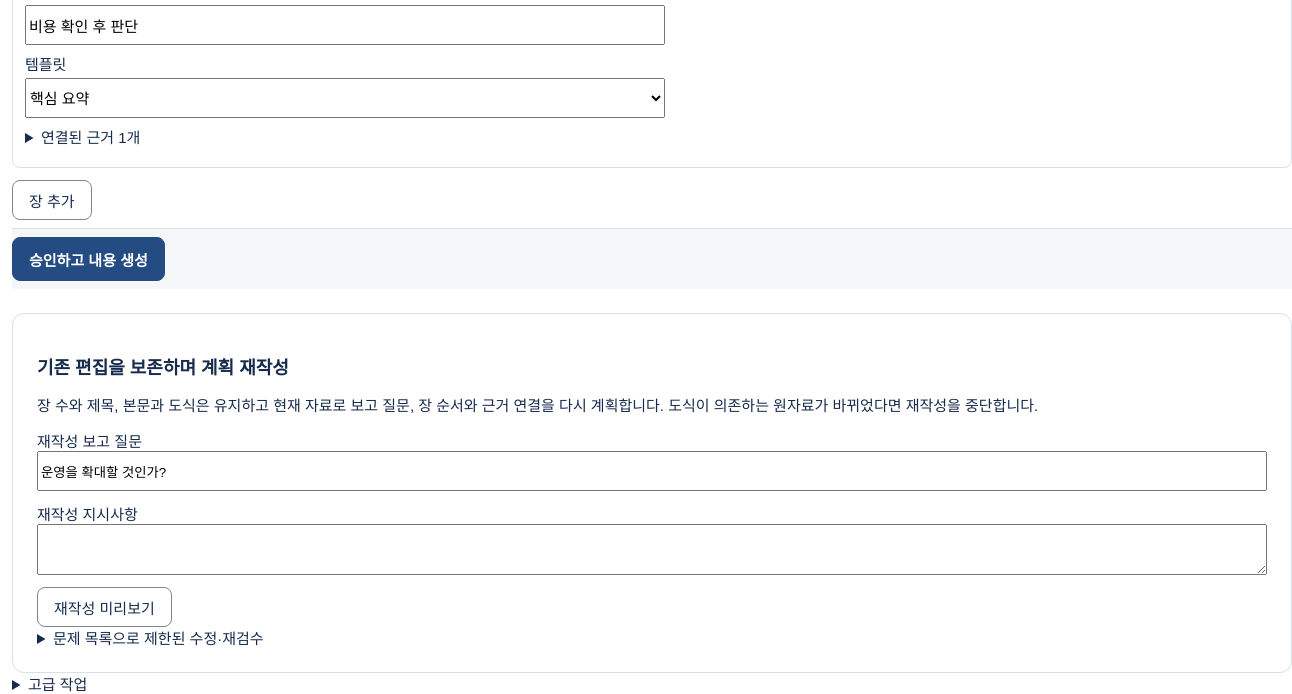
Test: 형식 오류의 원문을 표시하고 적용하지 않는다
(page scrolled)
Click the button "재작성 미리보기".
click(104, 607)  # box [37,587,172,627]
(page scrolled)
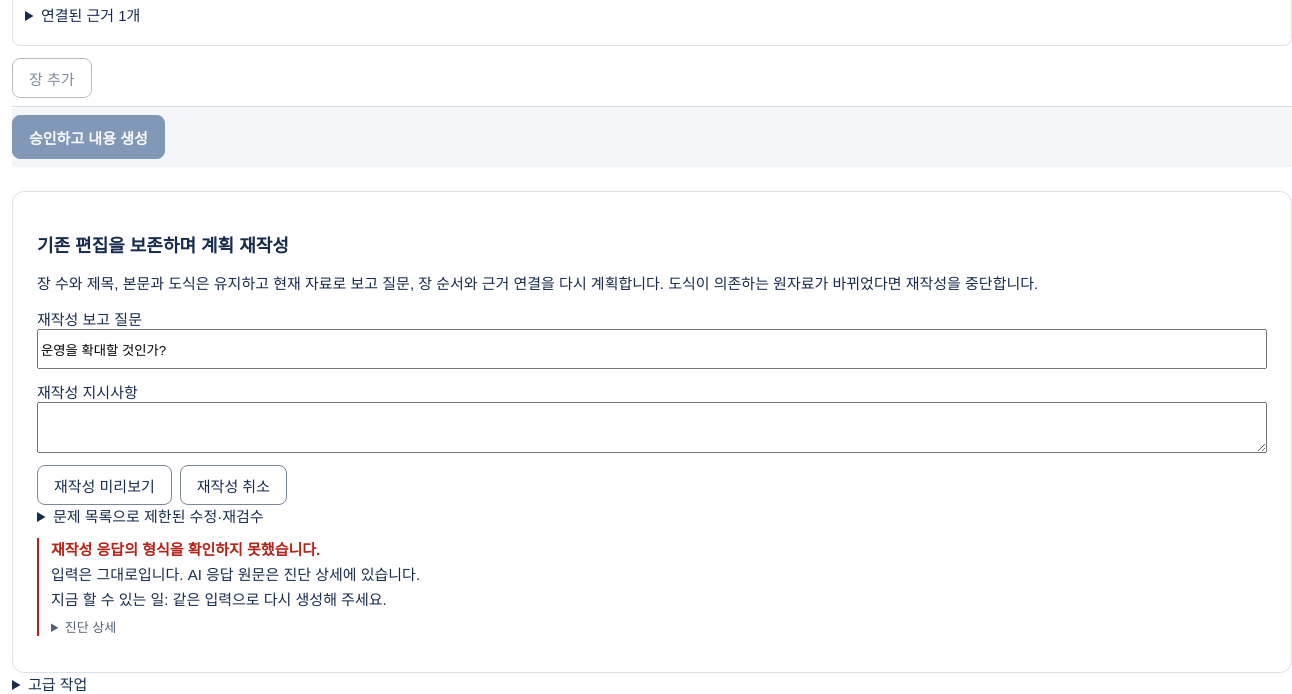
Expected: the element with class "usage" is shown, [65,620,116,635]
